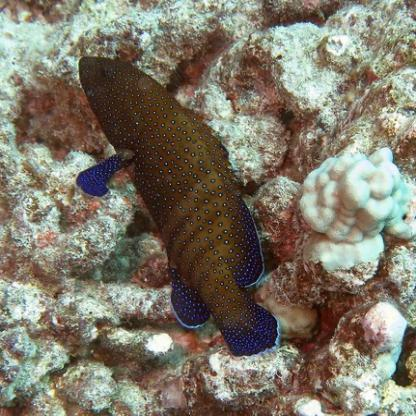Bio: (70, 54, 283, 358)
